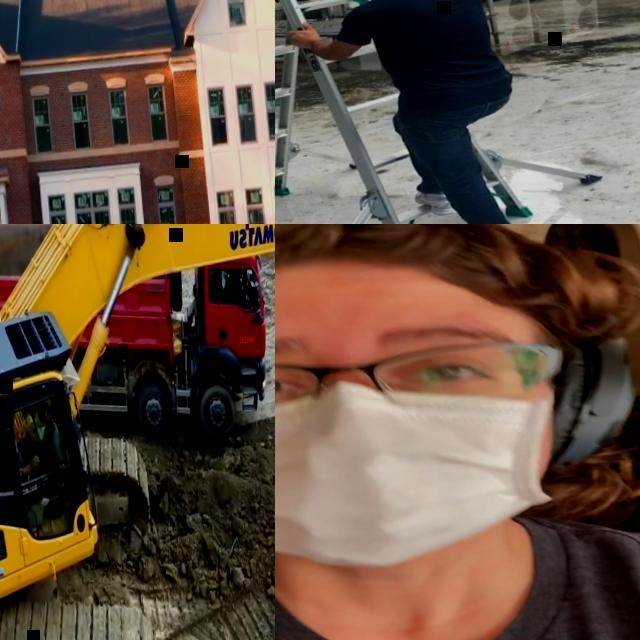Mask: (275, 378, 564, 581)
NO-Hardhat: (275, 224, 610, 354)
NO-Safety Vest: (275, 512, 640, 640), (368, 0, 511, 116), (223, 283, 241, 303), (16, 443, 24, 468)
Person: (275, 224, 640, 640), (276, 0, 542, 224), (11, 412, 57, 508), (222, 272, 250, 309)
machinery: (0, 224, 275, 640), (0, 224, 275, 461)
